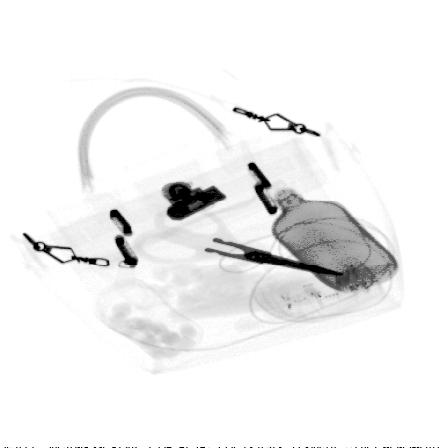Scissors: (135, 202, 346, 275)
